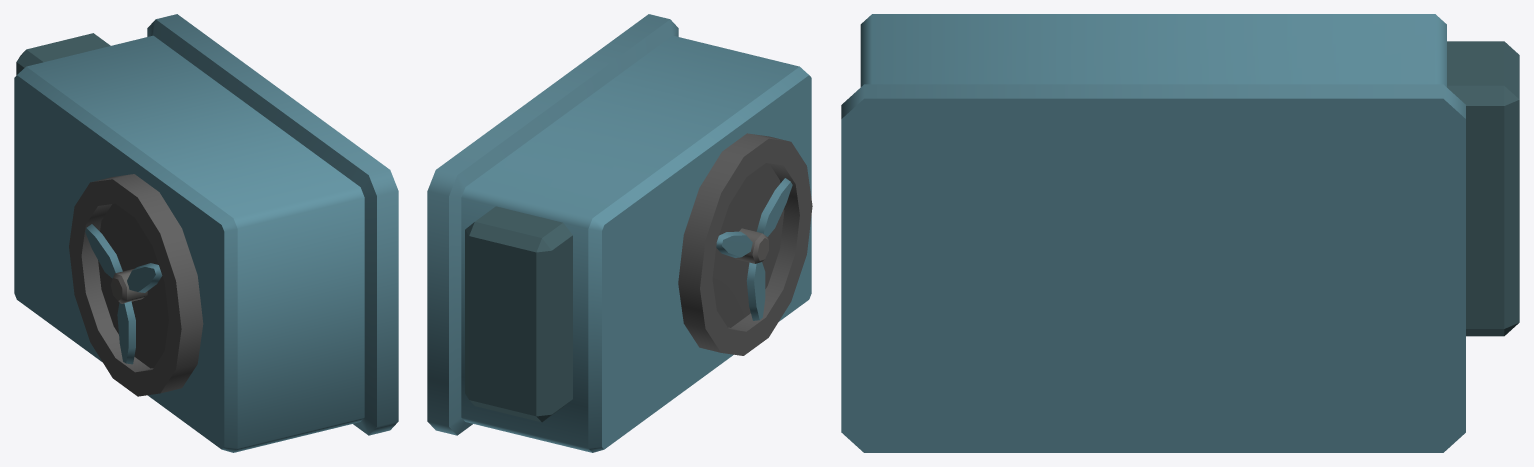
File: VENTS_1_C.fbx
3 renders of one model, left to right at view 1: azimuth 30°, elevation 25°; view 2: azimuth 150°, elevation 25°; view 3: azimuth 270°, elevation 25°, orthographic. The views are drawn at different scales.
Parts seen in each view (by area): view 1: VENTS_1_C, VENTS_1p_C; view 2: VENTS_1_C, VENTS_1p_C; view 3: VENTS_1_C.
Boxes of the visible parts, x1,y1,x2,y2 form: VENTS_1_C: (14, 14, 398, 452); VENTS_1p_C: (85, 224, 162, 364); VENTS_1_C: (427, 14, 812, 452); VENTS_1p_C: (716, 178, 792, 320); VENTS_1_C: (841, 14, 1519, 452).
Size of the model in its own units: 52.35 by 67.12 by 116.
